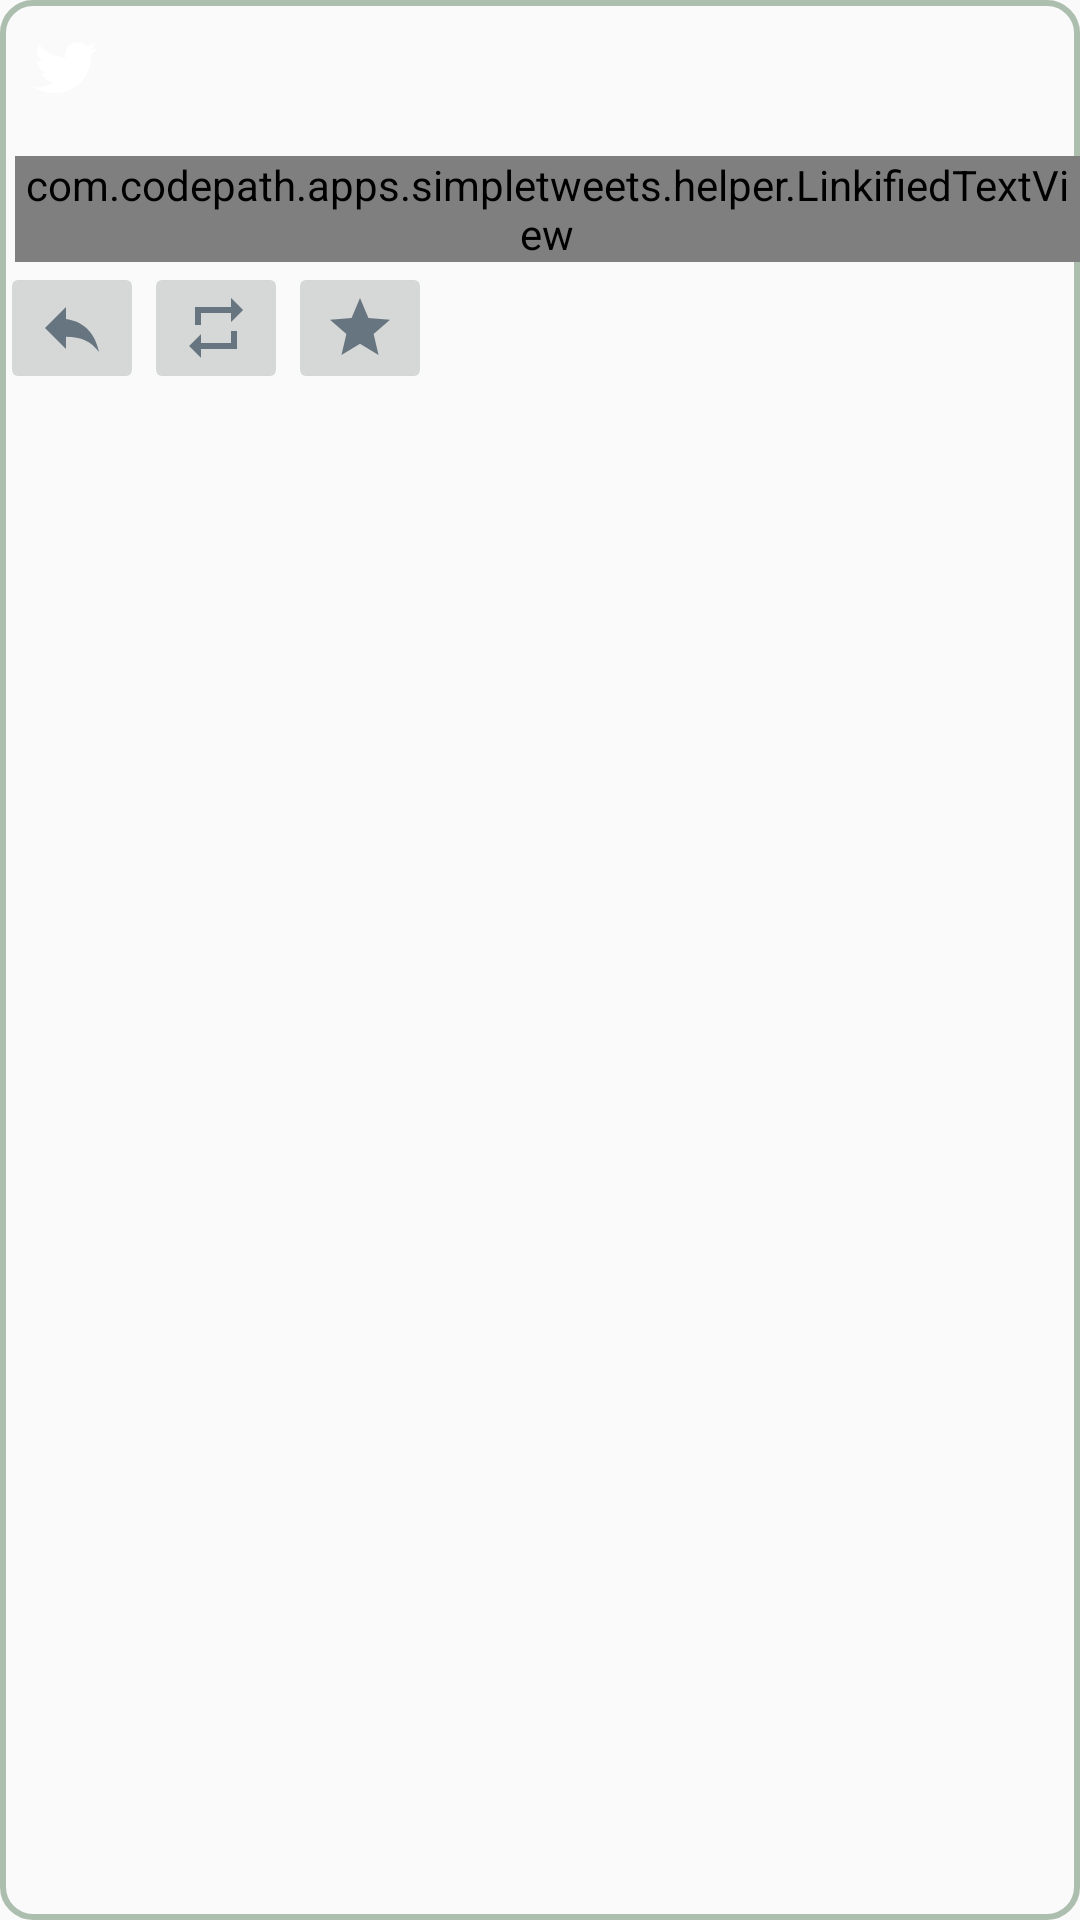

Point at icon controls on the screen. Image size 1080*1920, points as point (x, y).
repeat: point (216, 328)
reply: point (72, 328)
star: point (360, 328)
